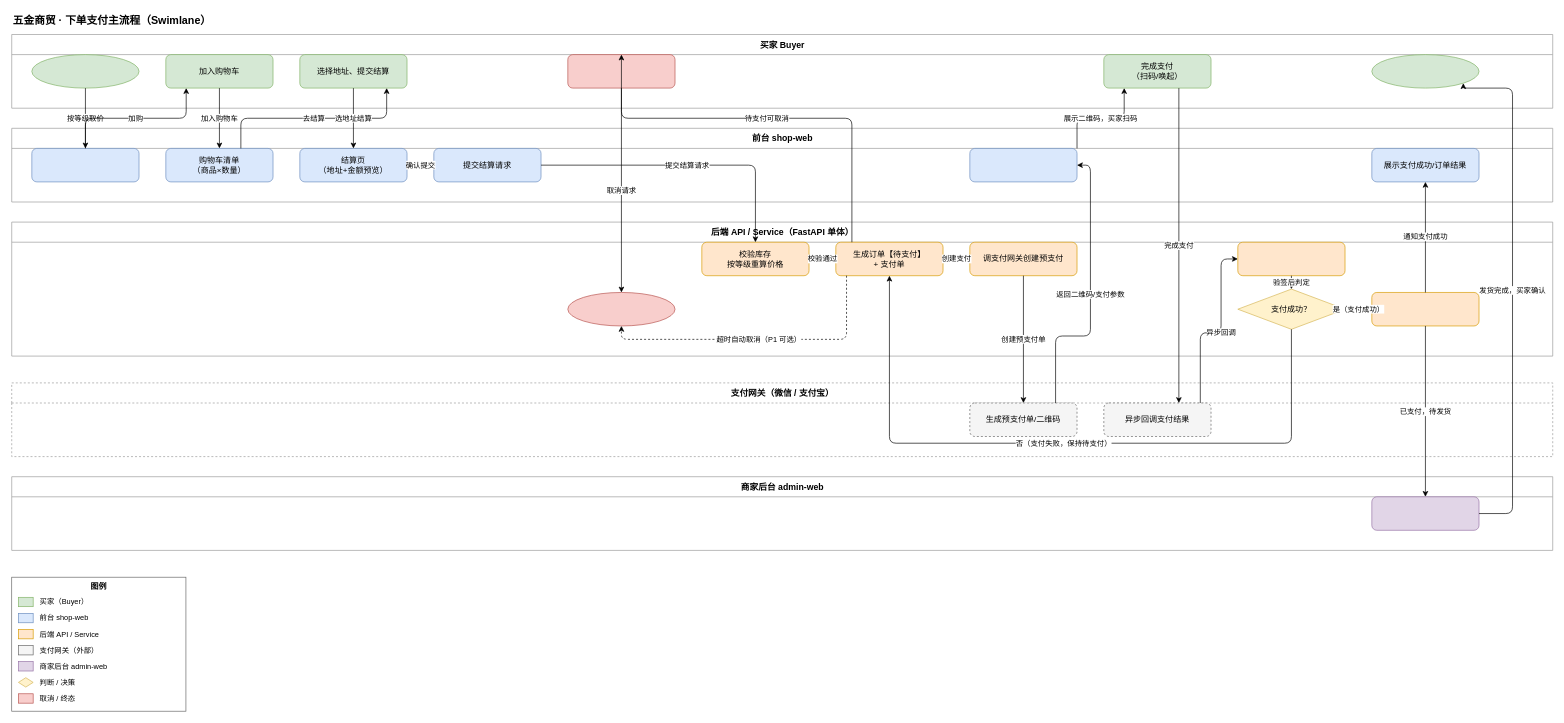
Some shapes in this 1564 by 723 pixel diagram are drawn without their labels. Each missing label, with the centre of its shape:
取消订单、回补库存 【已取消】: [621,309]
取消订单（待支付）: [621,71]
展示支付二维码/收银台: [1023,165]
展示等级价格: [85,165]
登录浏览商品 按等级取价: [85,71]
确认收货 【已完成】: [1425,71]
订单发货 【已发货】: [1425,513]
转已支付、扣库存、记流水 【已支付】: [1425,309]
验签 + 幂等校验: [1291,259]
